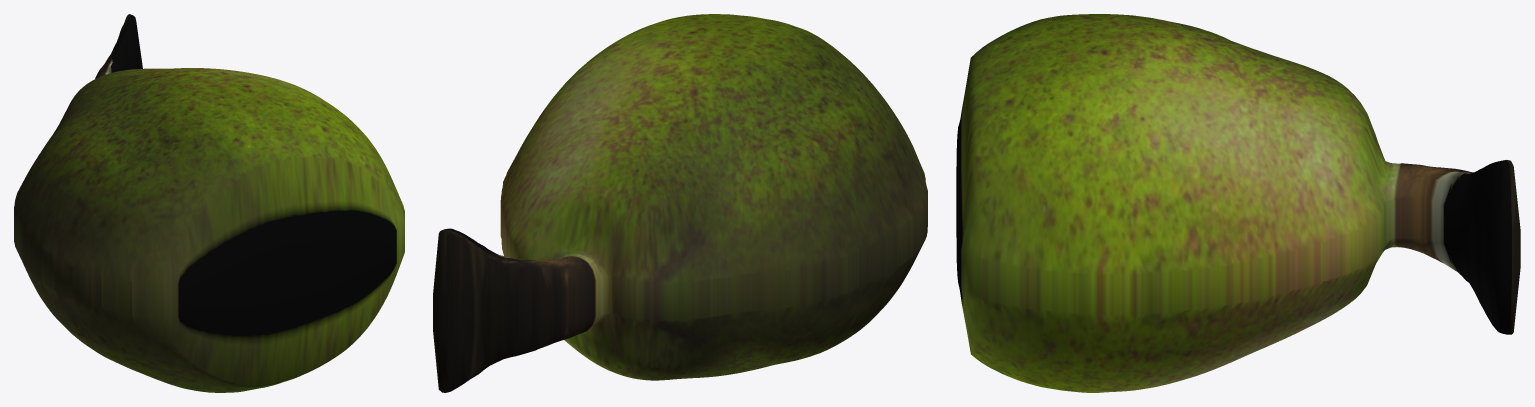
Rendered from green pear_5_2.obj.
3 renders of one model, left to right at view 1: azimuth 30°, elevation 25°; view 2: azimuth 150°, elevation 25°; view 3: azimuth 270°, elevation 25°, orthographic. The views are drawn at different scales.
Parts seen in each view (by area): view 1: Grid; view 2: Grid; view 3: Grid.
Boxes of the visible parts, x1,y1,x2,y2 form: Grid: (14,14,404,392); Grid: (433,14,927,392); Grid: (956,14,1520,392).
Size of the model in its own units: 1.48 by 1.21 by 1.85.
1 material, 1 textured.
